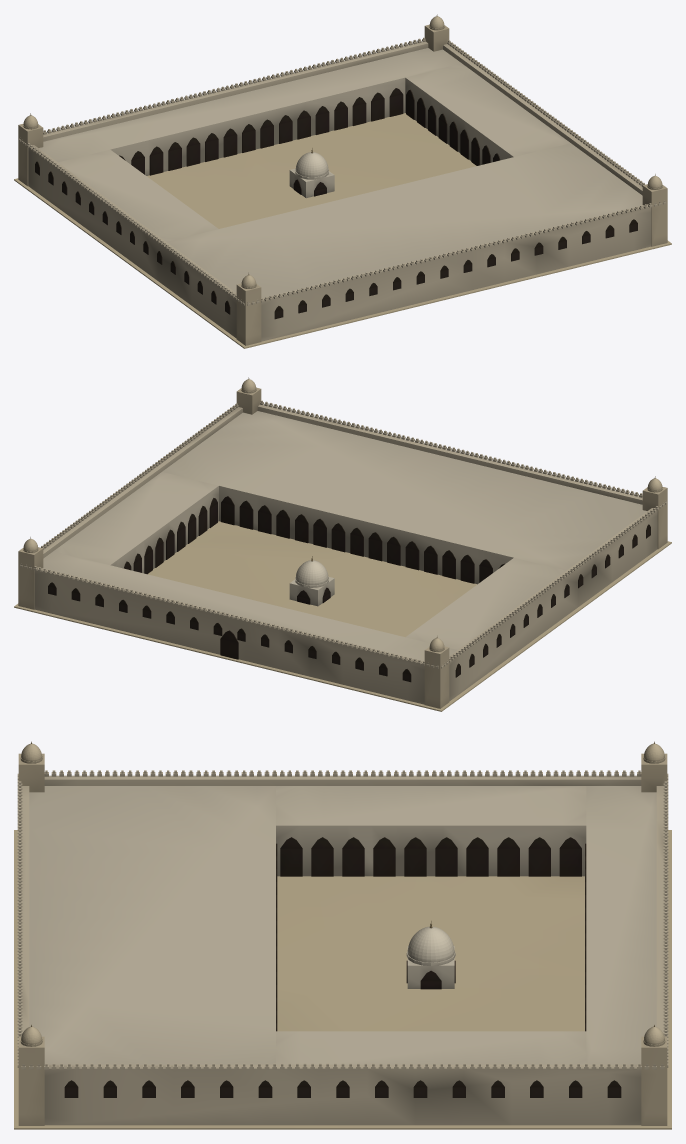
Rendered from amr-mosque.glb.
3 views of the same model, one above another, from view 1: azimuth 30°, elevation 25°; view 2: azimuth 150°, elevation 25°; view 3: azimuth 270°, elevation 25° (orthographic). The views are drawn at different scales.
Parts seen in each view (by area): view 1: p1_halls, p0_walls, p2_fountain; view 2: p1_halls, p0_walls, p2_fountain; view 3: p1_halls, p0_walls, p2_fountain.
Boxes of the visible parts, left/top/right/bottom form: p1_halls: left=39, top=48, right=642, bottom=297; p0_walls: left=14, top=37, right=671, bottom=348; p2_fountain: left=18, top=14, right=667, bottom=345; p1_halls: left=43, top=411, right=646, bottom=660; p0_walls: left=14, top=400, right=671, bottom=711; p2_fountain: left=18, top=377, right=667, bottom=708; p1_halls: left=29, top=786, right=656, bottom=1064; p0_walls: left=14, top=770, right=671, bottom=1129; p2_fountain: left=18, top=741, right=667, bottom=1125.
Bounding box in the file's own units: 120 × 18.52 × 112.
